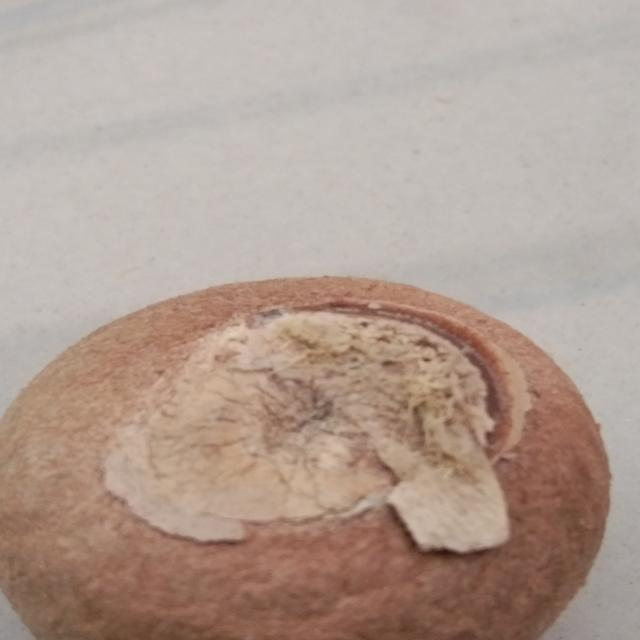good: (0, 256, 640, 640)
